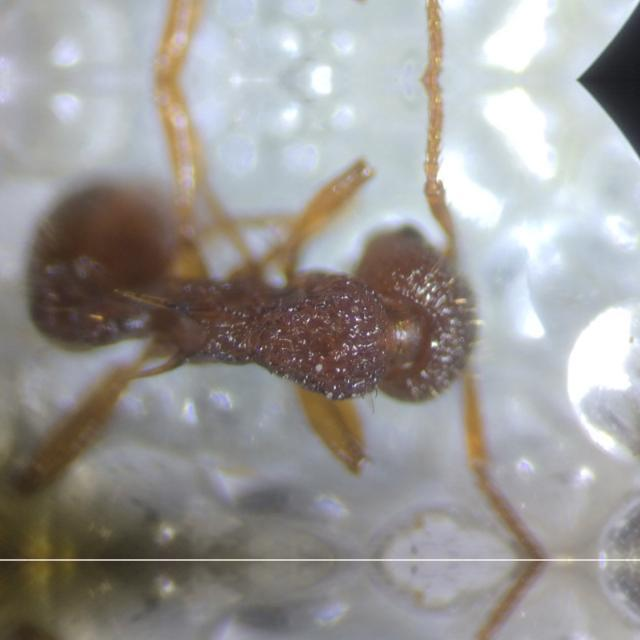Myrmica: (14, 136, 516, 420)
